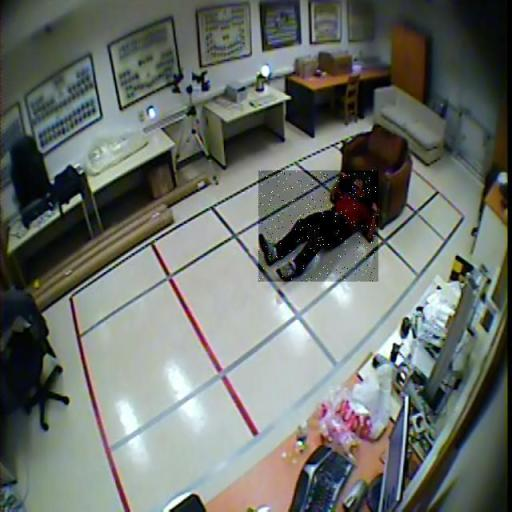Fall: (259, 171, 379, 282)
